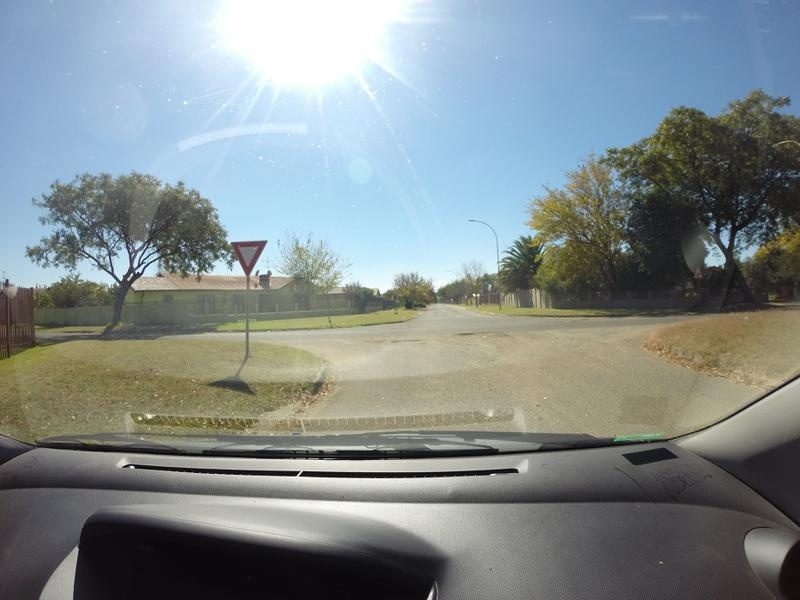pothole: (454, 332, 499, 336), (392, 336, 427, 340)
